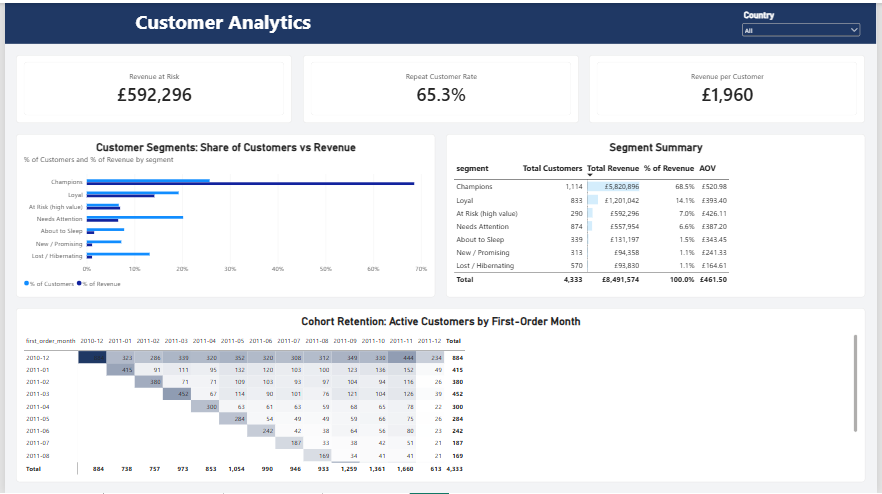

The page's visual inventory and layout, read from the dashboard file:
{"tool":"powerbi","page":{"name":"Customers","canvas":[1920,1080],"ordinal":1},"visuals":[{"type":"shape","box":[0,0,1920,90],"z":0},{"type":"slicer","title":"Country","fields":{"Values":["dim_customer.country"]},"box":[1620,15,270,60],"z":1000},{"type":"cardVisual","fields":{"Data":["fact_sales.Revenue at Risk"]},"box":[24,114,608,150],"z":2000},{"type":"cardVisual","fields":{"Data":["fact_sales.Repeat Customer Rate"]},"box":[656,114,608,150],"z":3000},{"type":"cardVisual","fields":{"Data":["fact_sales.Revenue per Customer"]},"box":[1288,114,608,150],"z":4000},{"type":"clusteredBarChart","title":"Customer Segments: Share of Customers vs Revenue","fields":{"Category":["dim_customer.segment"],"Y":["fact_sales.% of Customers","fact_sales.% of Revenue"]},"box":[24,288,924,360],"z":5000},{"type":"tableEx","title":"Segment Summary","fields":{"Values":["dim_customer.segment","fact_sales.Total Customers","fact_sales.Total Revenue","fact_sales.% of Revenue","fact_sales.AOV"]},"box":[972,288,924,360],"z":6000},{"type":"pivotTable","title":"Cohort Retention: Active Customers by First-Order Month","fields":{"Columns":["dim_date.Year-Month"],"Rows":["dim_customer.first_order_month"],"Values":["fact_sales.Total Customers"]},"box":[24,672,1872,384],"z":7000},{"type":"textbox","box":[30,12,900,66],"z":8000}]}

Visuals, with their boxes in screenshot pixels (x1, y1, x2, y2), scaled from the page's 1920x1080 canvas onto the 882x494 screenshot:
shape: bbox(0, 0, 881, 41)
"Country" slicer: bbox(744, 7, 868, 34)
cardVisual - fact_sales.Revenue at Risk: bbox(11, 52, 290, 121)
cardVisual - fact_sales.Repeat Customer Rate: bbox(301, 52, 581, 121)
cardVisual - fact_sales.Revenue per Customer: bbox(592, 52, 871, 121)
"Customer Segments: Share of Customers vs Revenue" clusteredBarChart: bbox(11, 132, 435, 296)
"Segment Summary" tableEx: bbox(447, 132, 871, 296)
"Cohort Retention: Active Customers by First-Order Month" pivotTable: bbox(11, 307, 871, 483)
textbox: bbox(14, 5, 427, 36)
